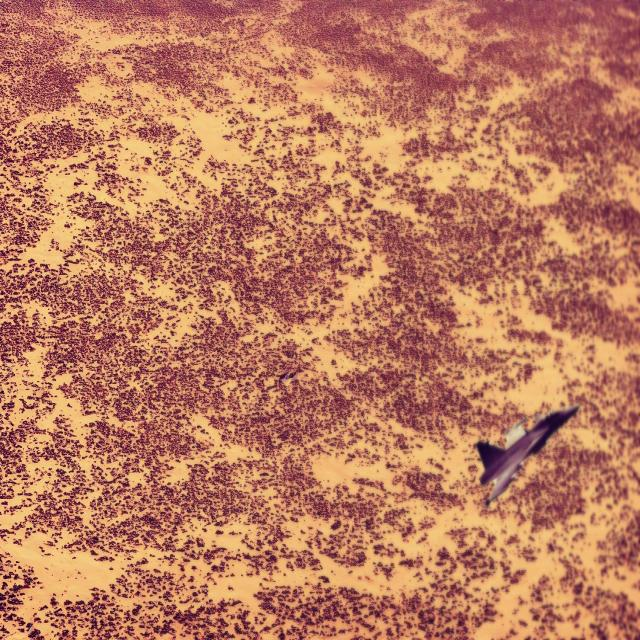airplane: (475, 403, 580, 505)
